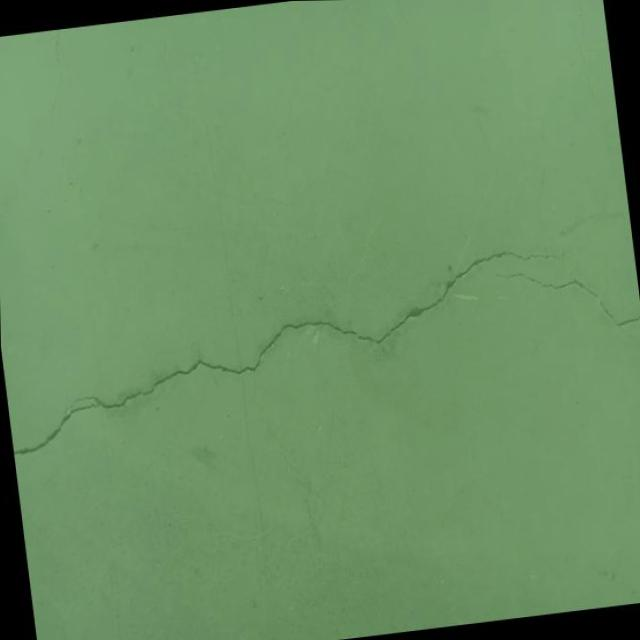crack: (0, 242, 581, 456), (491, 258, 640, 343)
